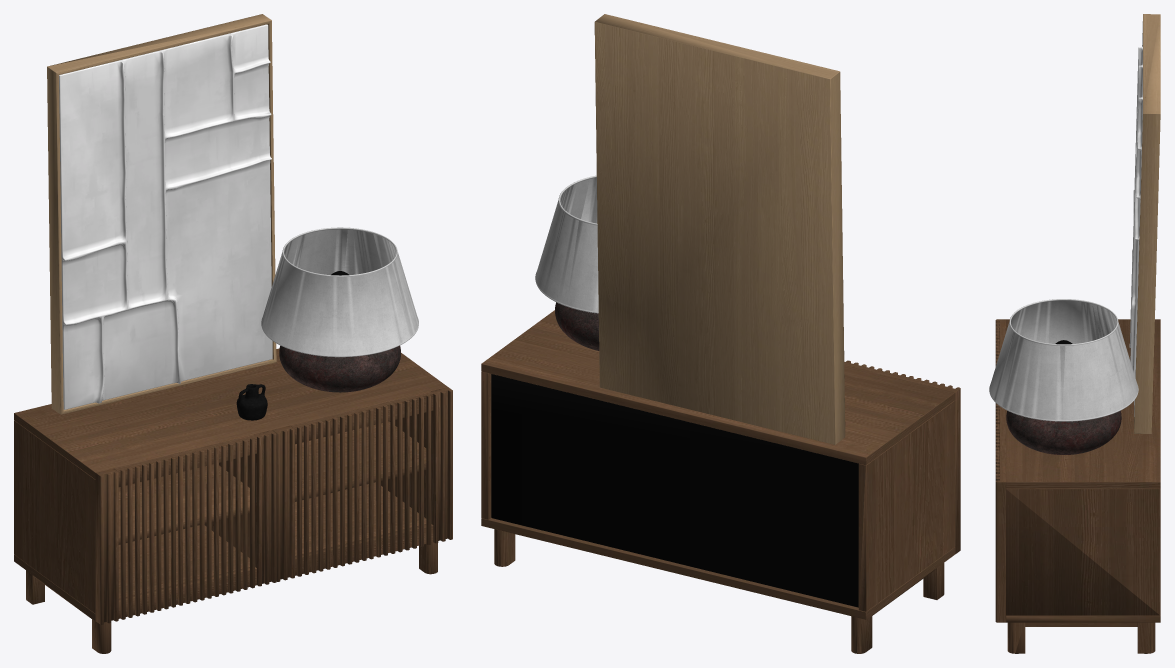
The model's file is dimensiva-beyla-shoe-cabinet-by-kave-home.optimized.glb.
3 renders of one model, left to right at view 1: azimuth 30°, elevation 25°; view 2: azimuth 150°, elevation 25°; view 3: azimuth 270°, elevation 25°, orthographic. The views are drawn at different scales.
Parts seen in each view (by area): view 1: Beyla Shoe Cabinet; view 2: Beyla Shoe Cabinet; view 3: Beyla Shoe Cabinet.
Part boxes in pixels (x1,y1,x2,y2): Beyla Shoe Cabinet: (14,14,452,653); Beyla Shoe Cabinet: (481,14,960,653); Beyla Shoe Cabinet: (989,14,1160,653).
Size of the model in its own units: 0.98 by 1.39 by 0.4361.
Materials: 9 (6 with a texture image).
